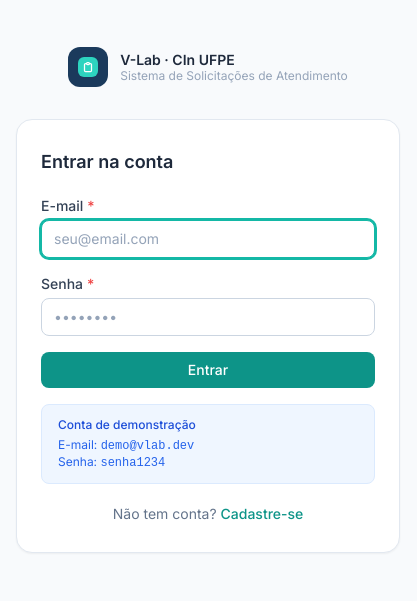
Test: Login › exibe mensagem de erro quando login falha com 401
The width and height of the screenshot is (417, 601).
Type "errado@test.com" into the field with placeholder "seu@email.com" at (208, 239), box 41,220 -> 375,258
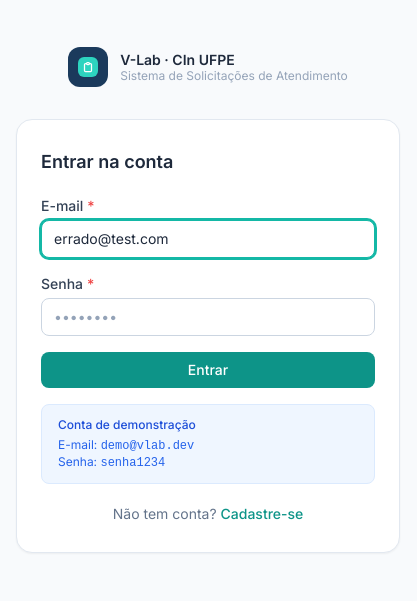
Type "errada123" into the password field with placeholder "••••••••" at (208, 317), box 41,298 -> 375,336
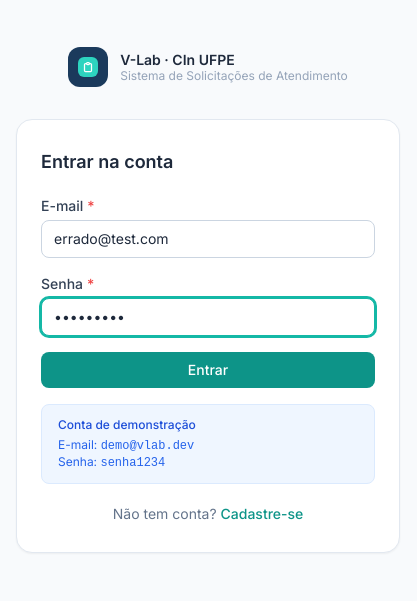
Click the button "Entrar" at (208, 370), box 41,352 -> 375,388
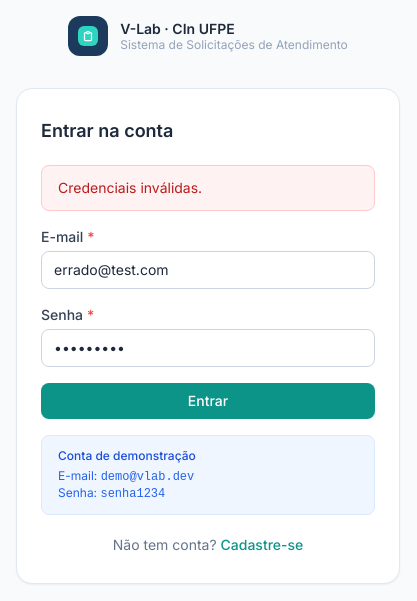
expect the text "Credenciais inválidas." is shown: met, box 41,165 -> 375,211
